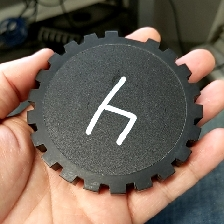gear: (26, 29, 204, 196)
missing: (104, 30, 161, 52)
